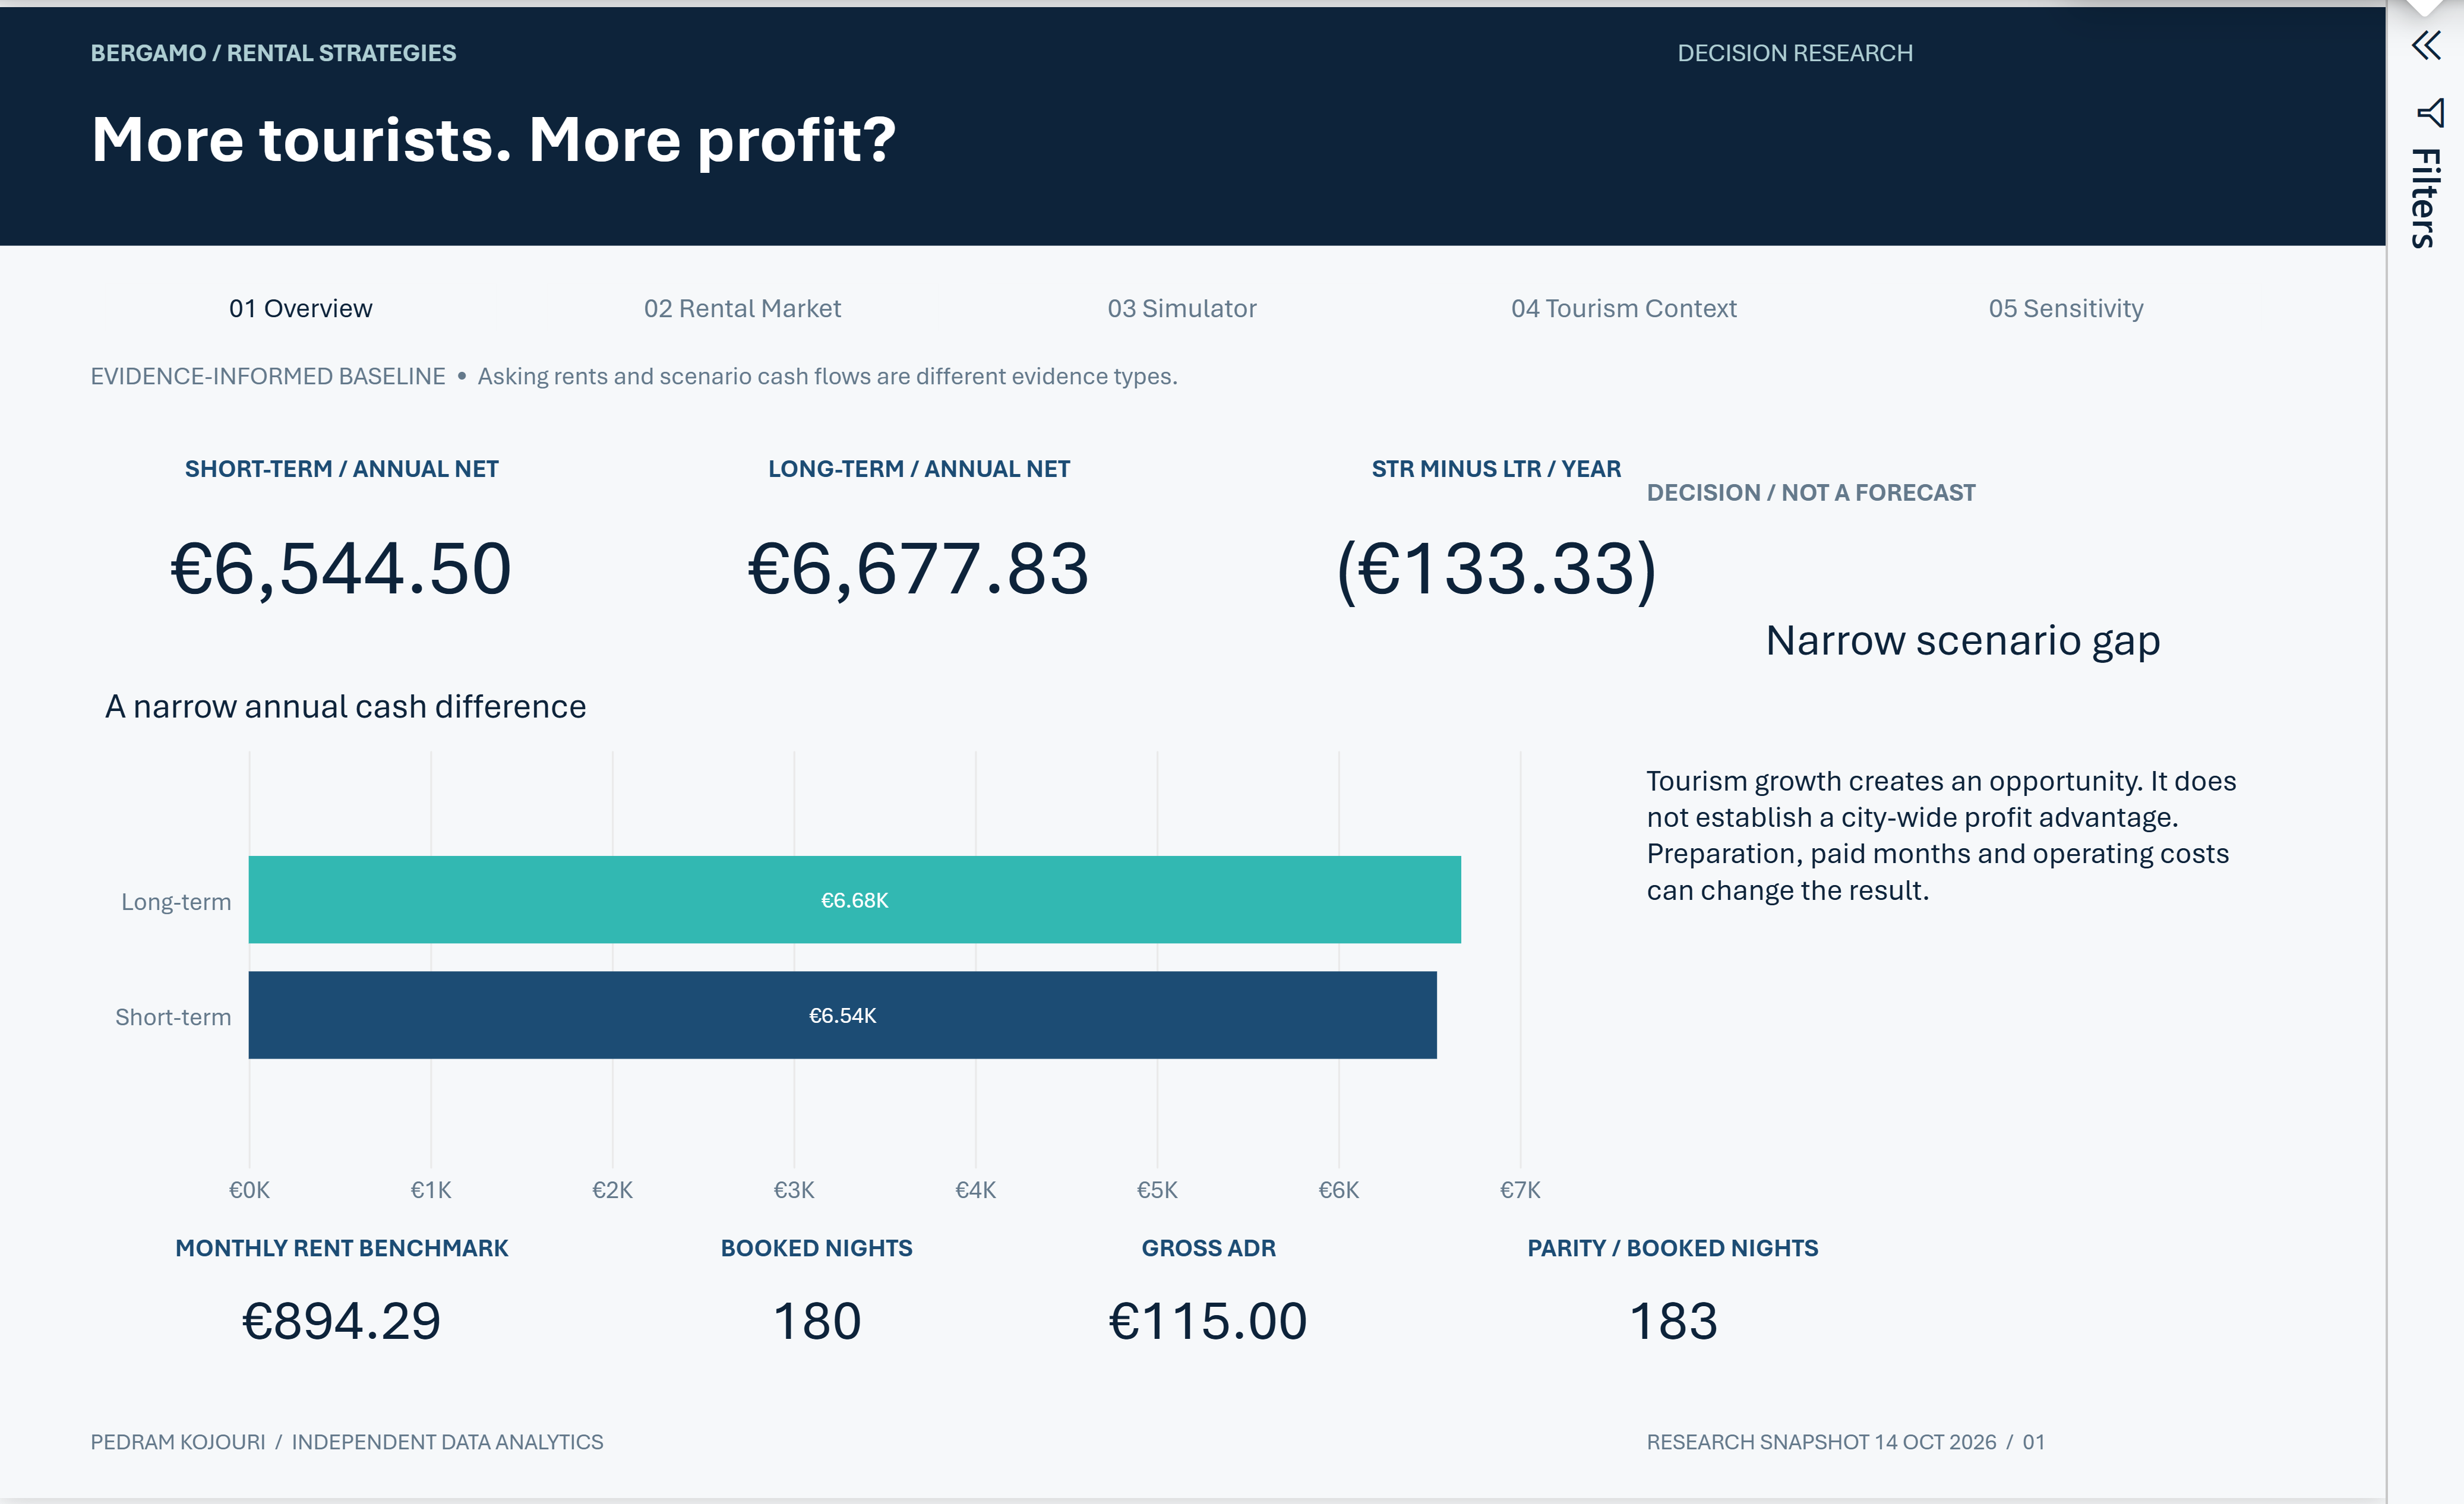

The page's visual inventory and layout, read from the dashboard file:
{"tool":"powerbi","page":{"name":"Overview","canvas":[1280,800],"ordinal":0},"visuals":[{"type":"textbox","box":[0,0,1280,128],"z":1},{"type":"textbox","box":[48,16,690,24],"z":2},{"type":"textbox","box":[900,16,332,24],"z":3},{"type":"textbox","box":[48,49,1150,60],"z":4},{"type":"actionButton","box":[48,140,226,42],"z":5},{"type":"actionButton","box":[285,140,226,42],"z":6},{"type":"actionButton","box":[522,140,226,42],"z":7},{"type":"actionButton","box":[759,140,226,42],"z":8},{"type":"actionButton","box":[996,140,226,42],"z":9},{"type":"textbox","box":[48,190,1184,36],"z":10},{"type":"textbox","box":[48,762,650,24],"z":11},{"type":"textbox","box":[884,762,350,24],"z":12},{"type":"textbox","box":[48,240,270,24],"z":13},{"type":"card","fields":{"Values":["Metrics.STR Net Display"]},"box":[48,265,270,64],"z":14},{"type":"textbox","box":[358,240,270,24],"z":15},{"type":"card","fields":{"Values":["Metrics.LTR Net Display"]},"box":[358,265,270,64],"z":16},{"type":"textbox","box":[668,240,270,24],"z":17},{"type":"card","fields":{"Values":["Metrics.Annual Difference Display"]},"box":[668,265,270,64],"z":18},{"type":"barChart","title":"A narrow annual cash difference","fields":{"Category":["Strategy.Name"],"Y":["Metrics.STR Comparison","Metrics.LTR Comparison"]},"box":[48,356,786,300],"z":19},{"type":"textbox","box":[884,252,338,28],"z":20},{"type":"card","fields":{"Values":["Metrics.Decision"]},"box":[884,290,340,100],"z":21},{"type":"textbox","box":[884,405,338,150],"z":22},{"type":"textbox","box":[48,658,270,24],"z":23},{"type":"card","fields":{"Values":["Metrics.LTRRent Display"]},"box":[48,683,270,40],"z":24},{"type":"textbox","box":[358,658,160,24],"z":25},{"type":"card","fields":{"Values":["Metrics.BookedNights"]},"box":[358,683,160,40],"z":26},{"type":"textbox","box":[568,658,160,24],"z":27},{"type":"card","fields":{"Values":["Metrics.ADR Display"]},"box":[568,683,160,40],"z":28},{"type":"textbox","box":[778,658,240,24],"z":29},{"type":"card","fields":{"Values":["Metrics.Break-even Nights"]},"box":[778,683,240,40],"z":30}]}

Visuals, with their boxes in screenshot pixels (x1, y1, x2, y2), scaled from the page's 1280x800 canvas onto the 2464x1504 screenshot:
textbox: l=0, t=0, r=2463, b=241
textbox: l=93, t=30, r=1421, b=75
textbox: l=1733, t=30, r=2371, b=75
textbox: l=93, t=92, r=2306, b=205
actionButton: l=93, t=263, r=527, b=342
actionButton: l=549, t=263, r=984, b=342
actionButton: l=1005, t=263, r=1440, b=342
actionButton: l=1461, t=263, r=1896, b=342
actionButton: l=1918, t=263, r=2352, b=342
textbox: l=93, t=357, r=2371, b=425
textbox: l=93, t=1433, r=1344, b=1478
textbox: l=1702, t=1433, r=2375, b=1478
textbox: l=93, t=451, r=612, b=497
card - Metrics.STR Net Display: l=93, t=498, r=612, b=618
textbox: l=689, t=451, r=1209, b=497
card - Metrics.LTR Net Display: l=689, t=498, r=1209, b=618
textbox: l=1286, t=451, r=1806, b=497
card - Metrics.Annual Difference Display: l=1286, t=498, r=1806, b=618
"A narrow annual cash difference" barChart: l=93, t=669, r=1606, b=1233
textbox: l=1702, t=474, r=2352, b=526
card - Metrics.Decision: l=1702, t=545, r=2356, b=733
textbox: l=1702, t=762, r=2352, b=1044
textbox: l=93, t=1237, r=612, b=1282
card - Metrics.LTRRent Display: l=93, t=1284, r=612, b=1359
textbox: l=689, t=1237, r=997, b=1282
card - Metrics.BookedNights: l=689, t=1284, r=997, b=1359
textbox: l=1094, t=1237, r=1401, b=1282
card - Metrics.ADR Display: l=1094, t=1284, r=1401, b=1359
textbox: l=1498, t=1237, r=1960, b=1282
card - Metrics.Break-even Nights: l=1498, t=1284, r=1960, b=1359
